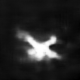plane: (15, 28, 63, 63)
